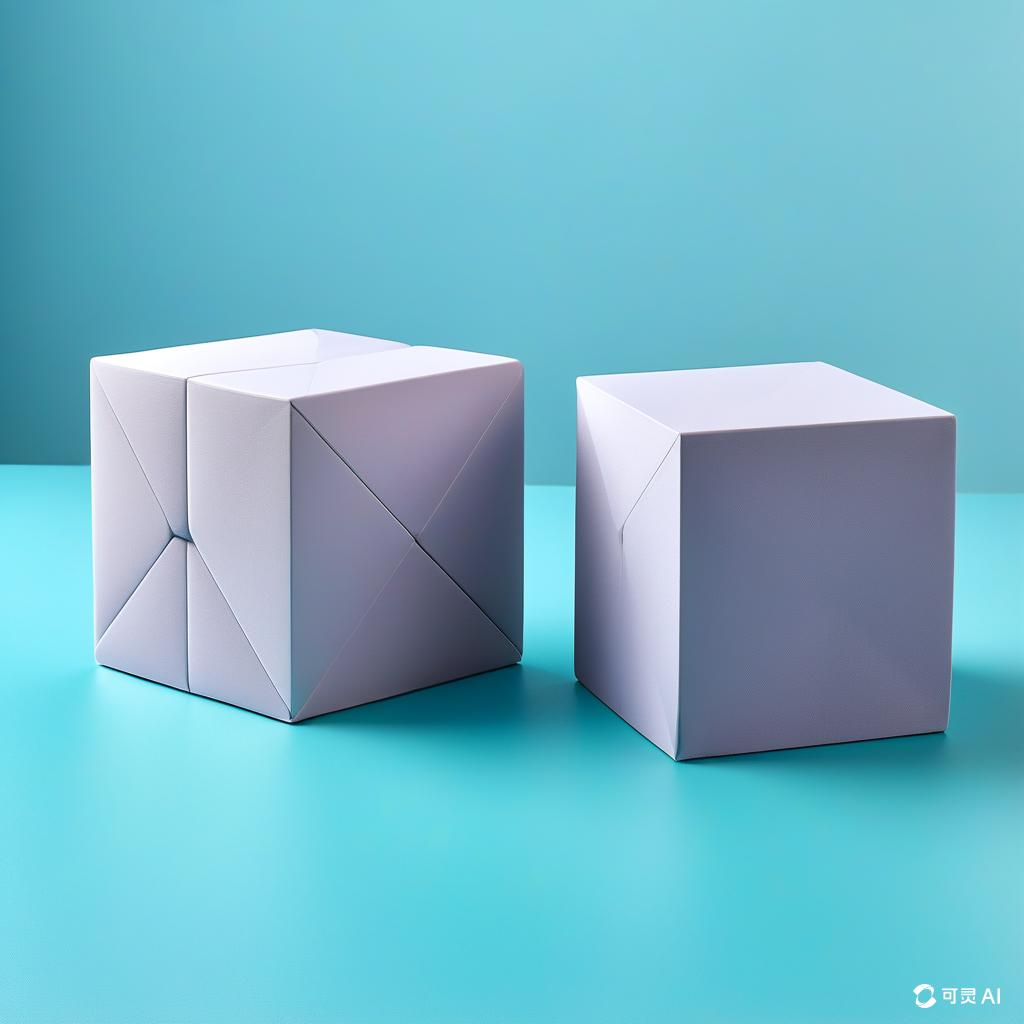cube: (88, 326, 525, 724), (573, 359, 957, 762)
